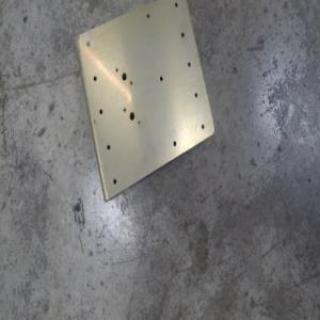MetalSheettrack_idkeyframe: (72, 0, 216, 206)
